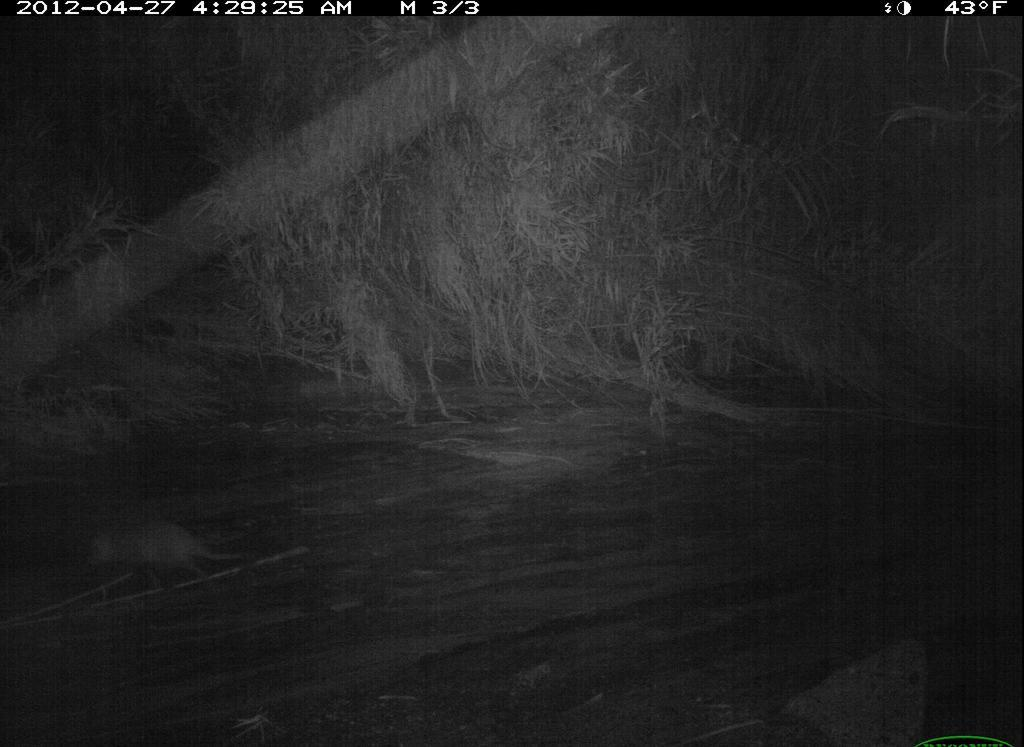opossum: (72, 516, 257, 587)
